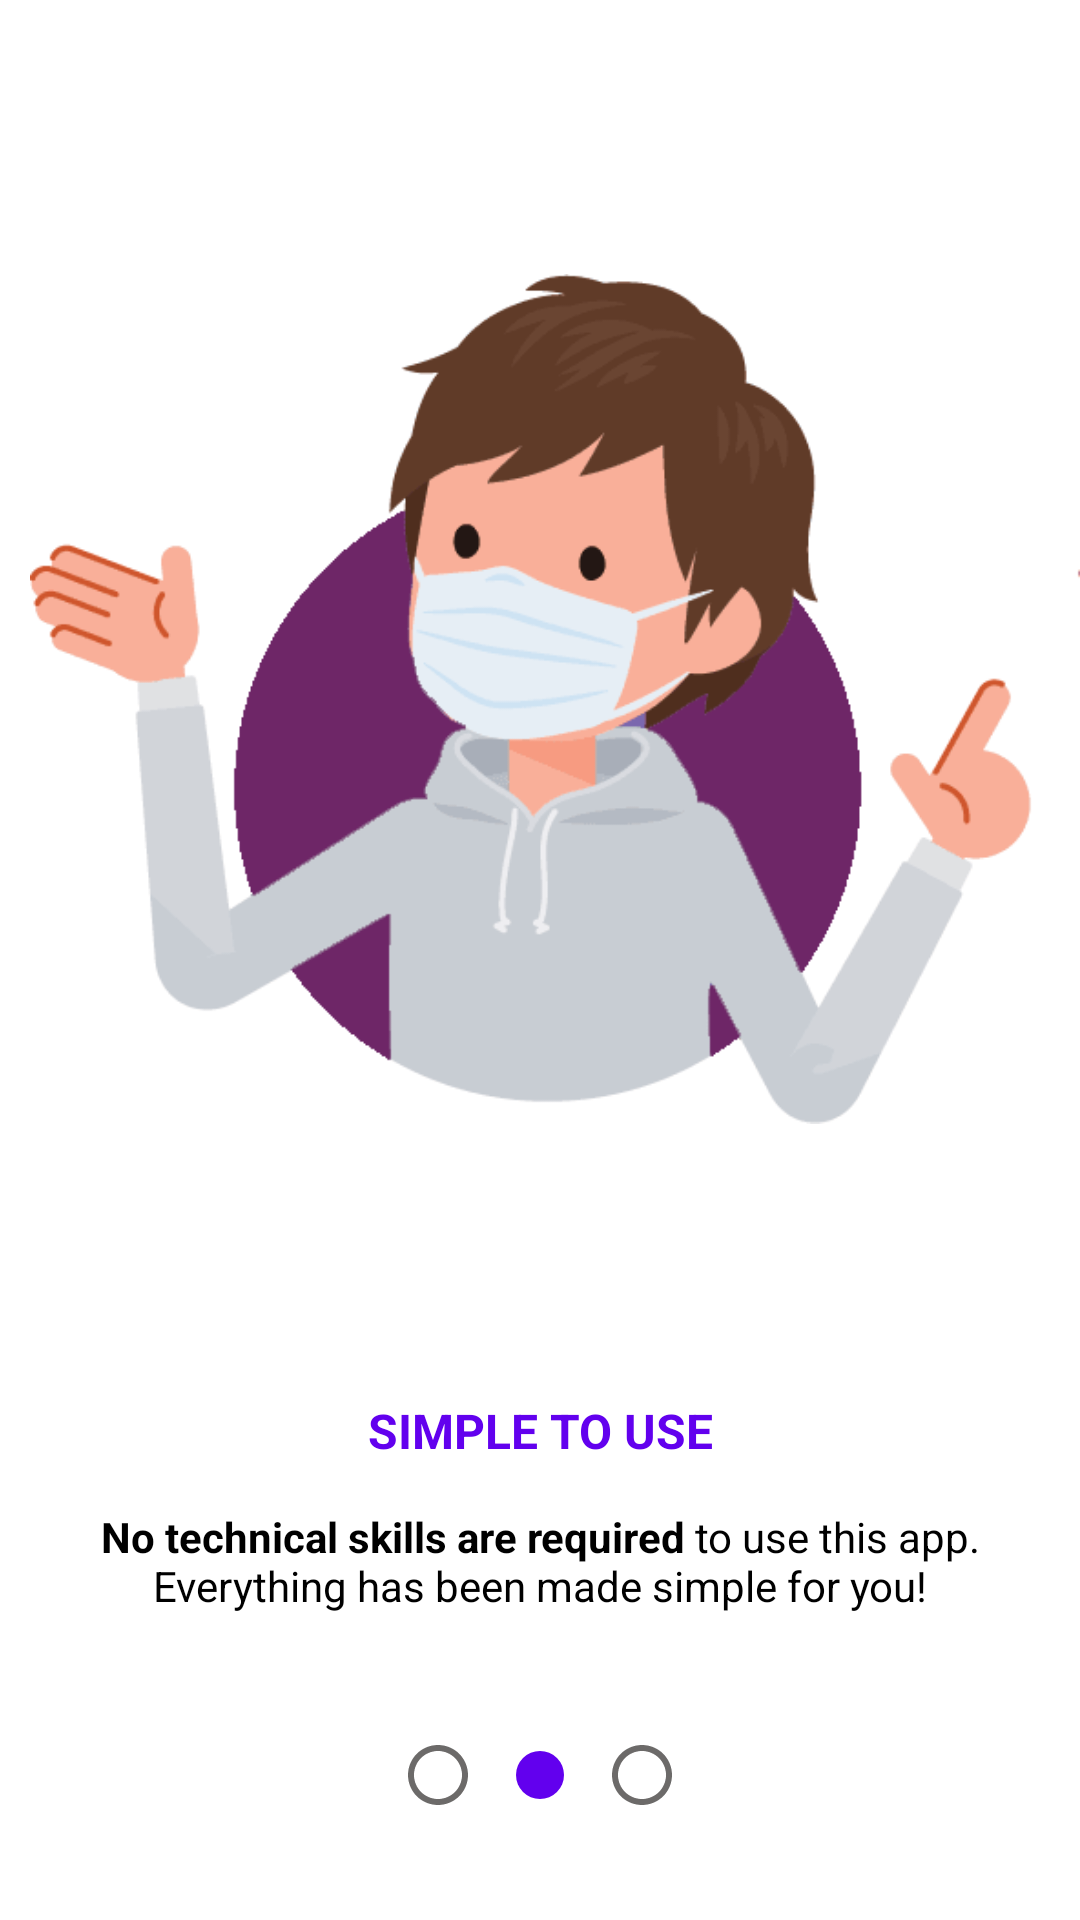

Where icons sit on this 1080×1920 app screen, as {"left": x1, "top": y1, "right": x2, "bottom": y2}:
checked: {"left": 516, "top": 1751, "right": 564, "bottom": 1799}
unchecked: {"left": 408, "top": 1745, "right": 468, "bottom": 1805}, {"left": 612, "top": 1745, "right": 672, "bottom": 1805}
